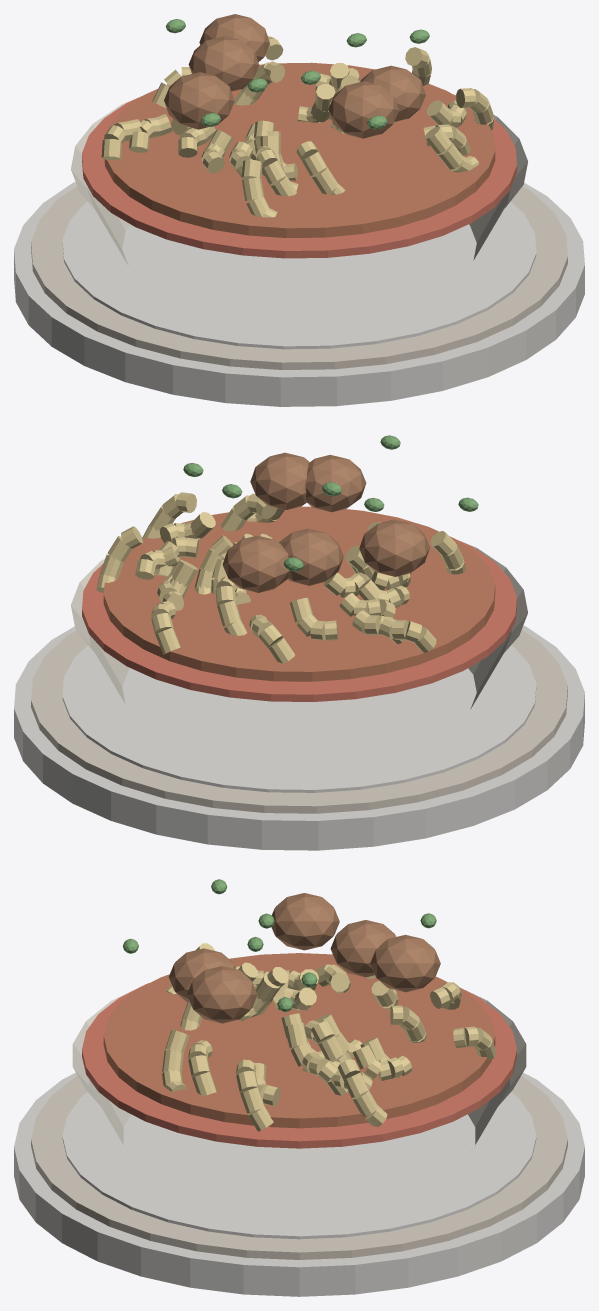
The picture shows the model from 3 angles, top to bottom: view 1: azimuth 30°, elevation 25°; view 2: azimuth 150°, elevation 25°; view 3: azimuth 270°, elevation 25°; orthographic projection.
Visible parts, largest first — view 1: obj_0002, obj_0005, obj_0000, obj_0001, obj_0004, obj_0003, obj_0130, obj_0127, obj_0129, obj_0126, obj_0128; view 2: obj_0002, obj_0005, obj_0000, obj_0001, obj_0004, obj_0003, obj_0127, obj_0128, obj_0126, obj_0130, obj_0129; view 3: obj_0002, obj_0005, obj_0000, obj_0001, obj_0004, obj_0003, obj_0126, obj_0128, obj_0127, obj_0129, obj_0130.
Boxes of the visible parts, x1=… form: obj_0002: x1=62, y1=201, x2=536, y2=349; obj_0005: x1=104, y1=62, x2=495, y2=237; obj_0000: x1=14, y1=182, x2=584, y2=406; obj_0001: x1=31, y1=186, x2=567, y2=369; obj_0004: x1=82, y1=94, x2=516, y2=258; obj_0003: x1=71, y1=98, x2=527, y2=265; obj_0130: x1=328, y1=81, x2=398, y2=138; obj_0127: x1=164, y1=72, x2=234, y2=129; obj_0129: x1=188, y1=36, x2=259, y2=91; obj_0126: x1=360, y1=65, x2=425, y2=121; obj_0128: x1=199, y1=14, x2=269, y2=61; obj_0002: x1=62, y1=645, x2=536, y2=792; obj_0005: x1=103, y1=506, x2=495, y2=681; obj_0000: x1=14, y1=625, x2=584, y2=850; obj_0001: x1=31, y1=630, x2=567, y2=813; obj_0004: x1=82, y1=540, x2=516, y2=701; obj_0003: x1=71, y1=541, x2=527, y2=709; obj_0127: x1=359, y1=519, x2=429, y2=576; obj_0128: x1=222, y1=535, x2=289, y2=592; obj_0126: x1=250, y1=452, x2=309, y2=509; obj_0130: x1=305, y1=454, x2=366, y2=512; obj_0129: x1=279, y1=528, x2=343, y2=585; obj_0002: x1=62, y1=1092, x2=536, y2=1239; obj_0005: x1=103, y1=953, x2=495, y2=1128; obj_0000: x1=14, y1=1072, x2=584, y2=1296; obj_0001: x1=31, y1=1075, x2=567, y2=1259; obj_0004: x1=82, y1=983, x2=516, y2=1148; obj_0003: x1=72, y1=982, x2=526, y2=1144; obj_0126: x1=187, y1=966, x2=257, y2=1023; obj_0128: x1=370, y1=934, x2=440, y2=992; obj_0127: x1=271, y1=893, x2=339, y2=950; obj_0129: x1=330, y1=920, x2=396, y2=977; obj_0130: x1=168, y1=948, x2=235, y2=1002.
Size of the model in its own units: 2.1 by 0.945 by 2.1.
